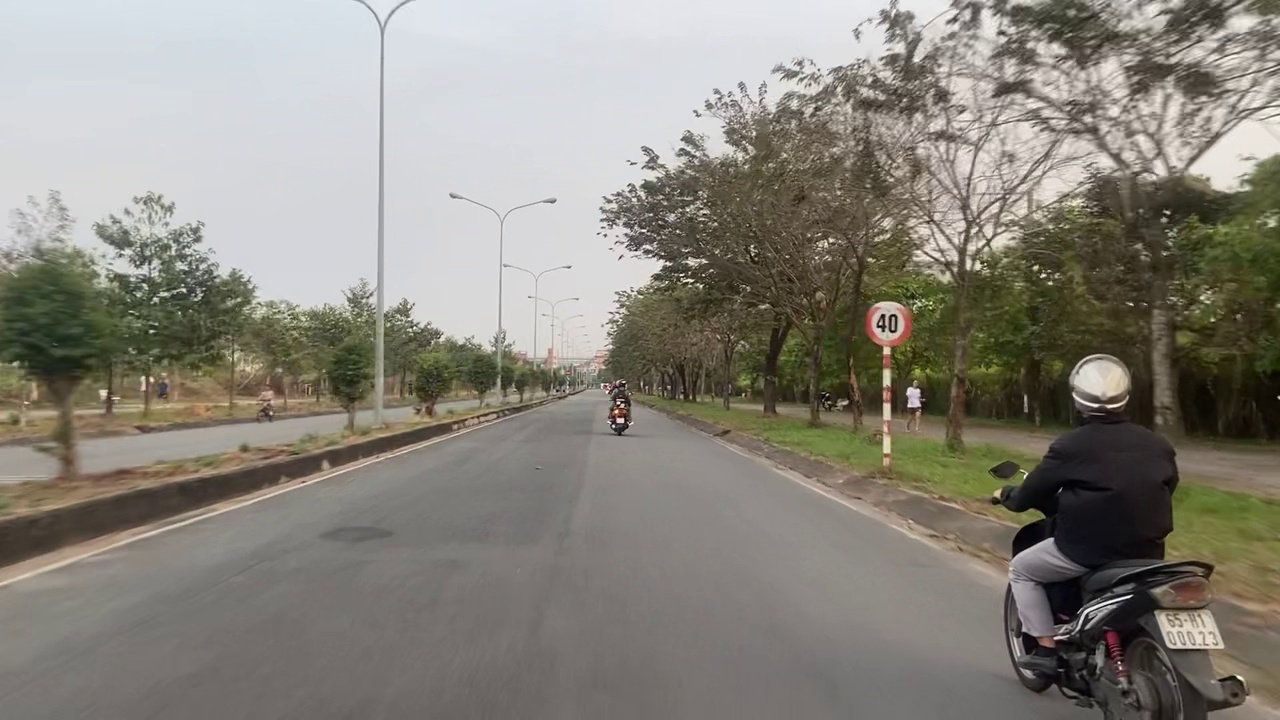gioi_han_40km: (862, 298, 914, 349)
